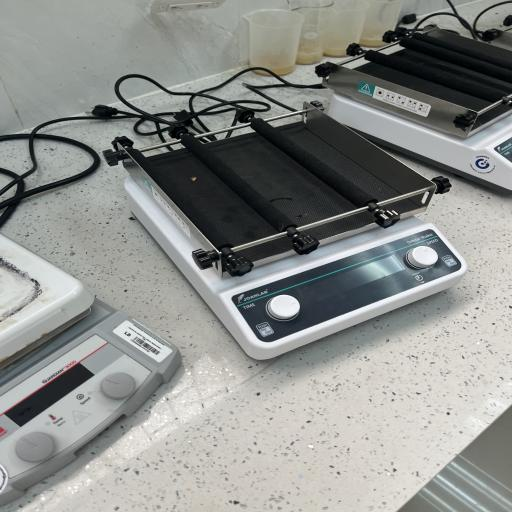Agitador_Orbital_DLAB: (81, 98, 485, 368)
